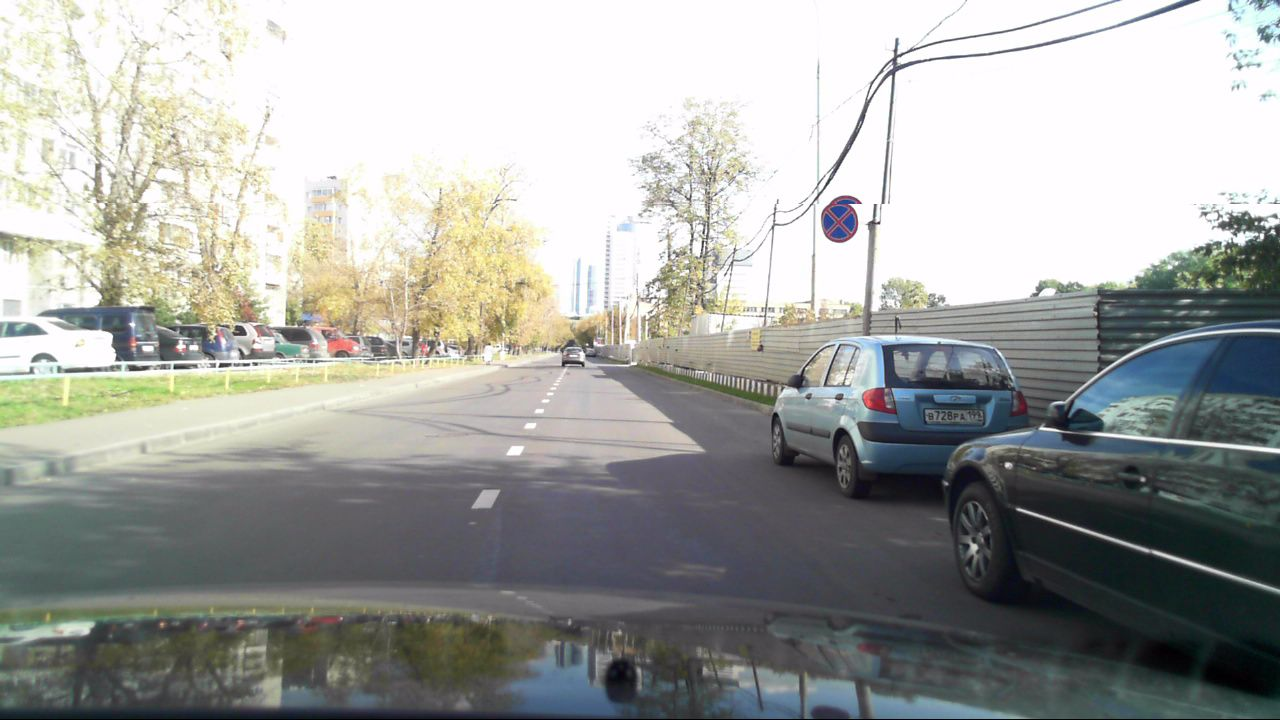No Parking: (817, 194, 862, 244)
